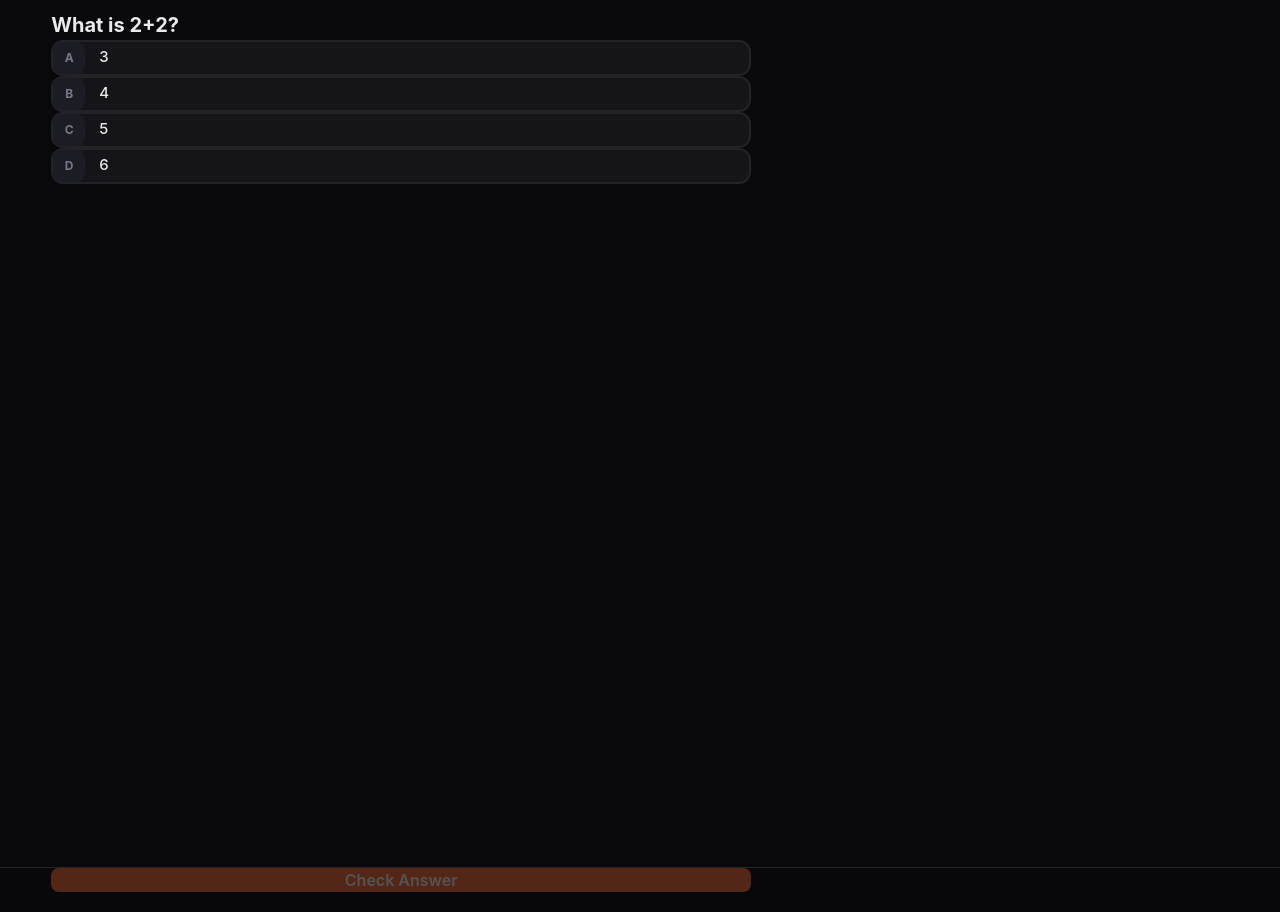
Scenario: Quiz component › shows correct answer on submit
The image size is (1280, 912).
Click the radio button labelled "B 4". click: (69, 94)
box: [51, 76, 751, 112]
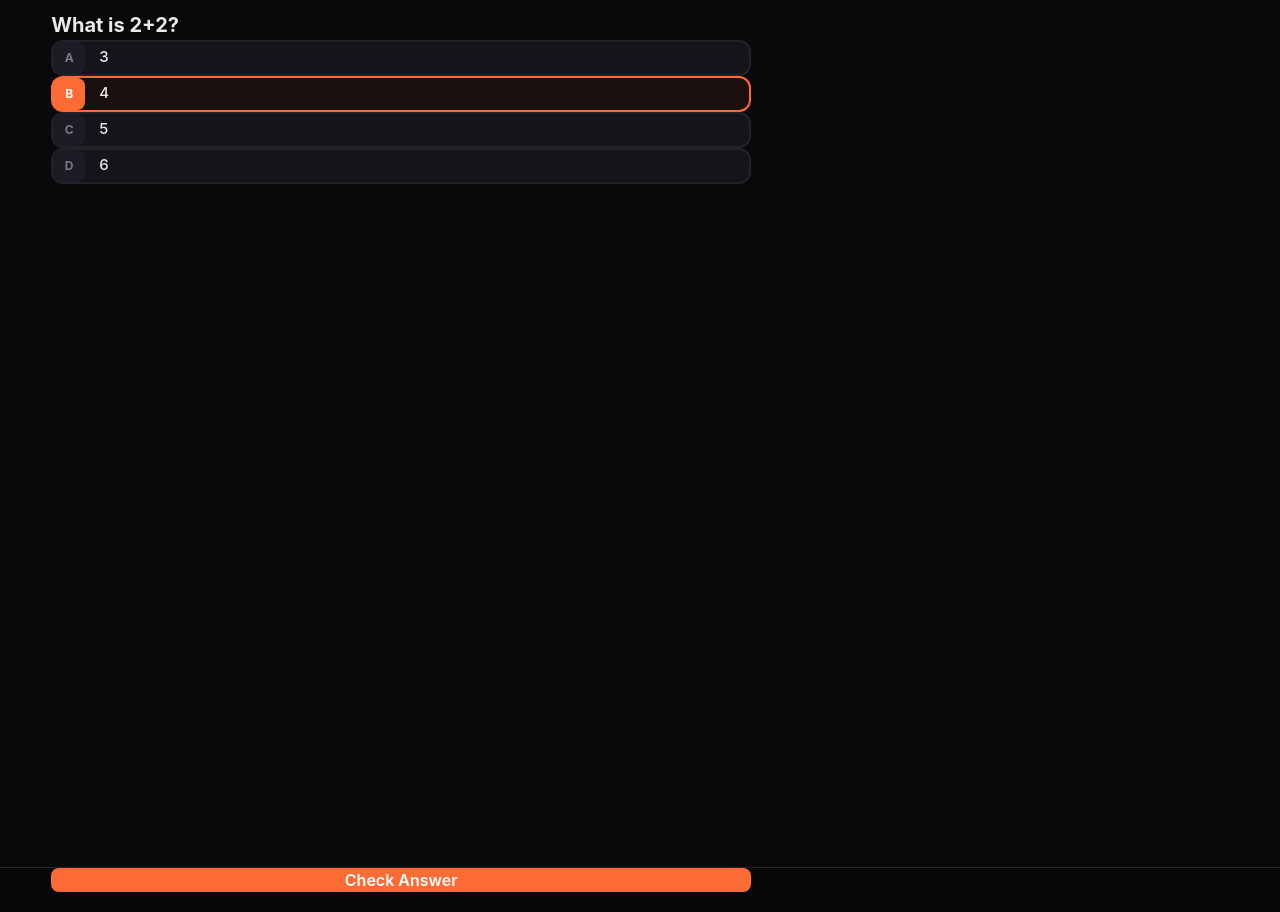
Click the button "Check Answer". click: (401, 880)
box: [51, 868, 751, 892]
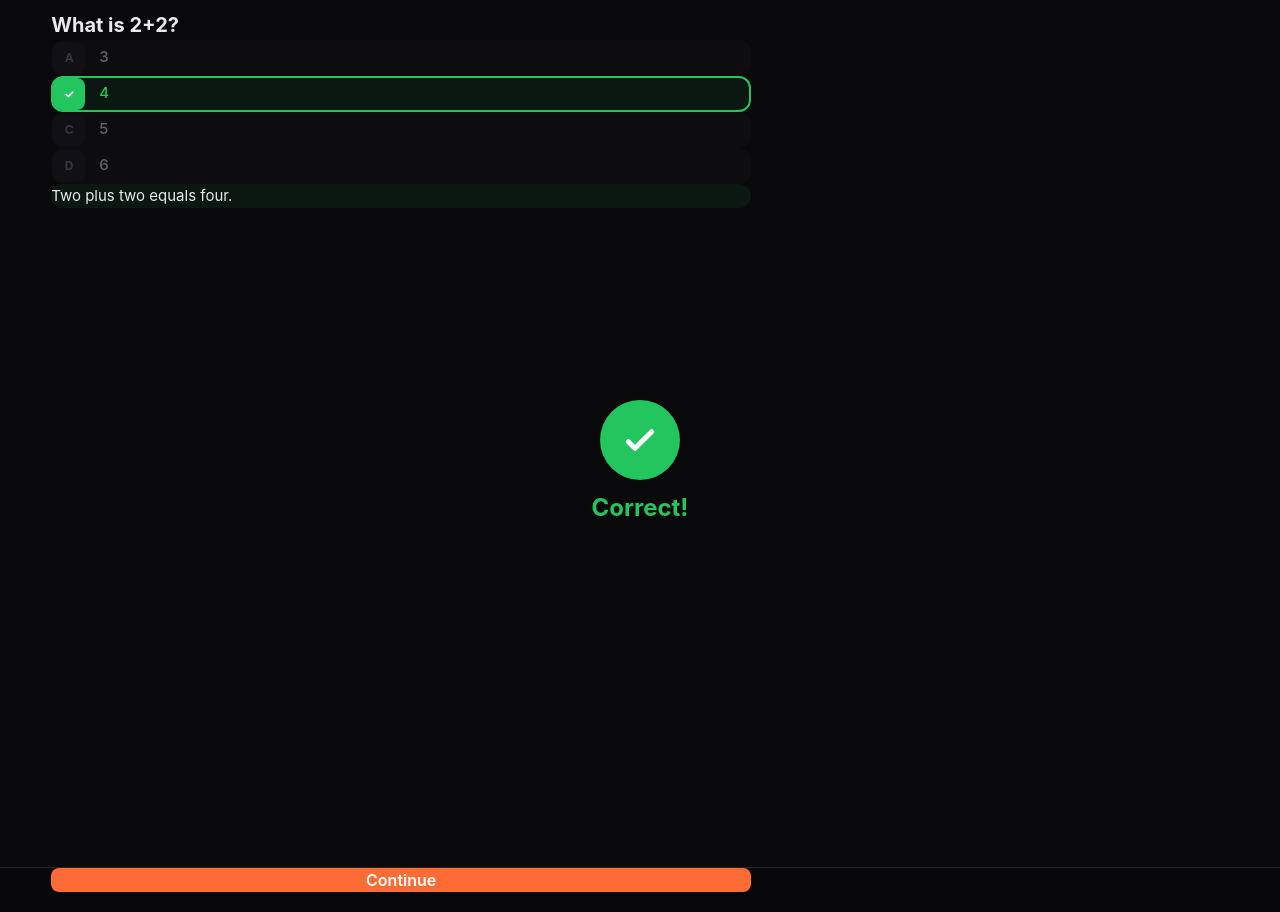
Now the text "Two plus two equals four." is shown, box [51, 186, 232, 204]
